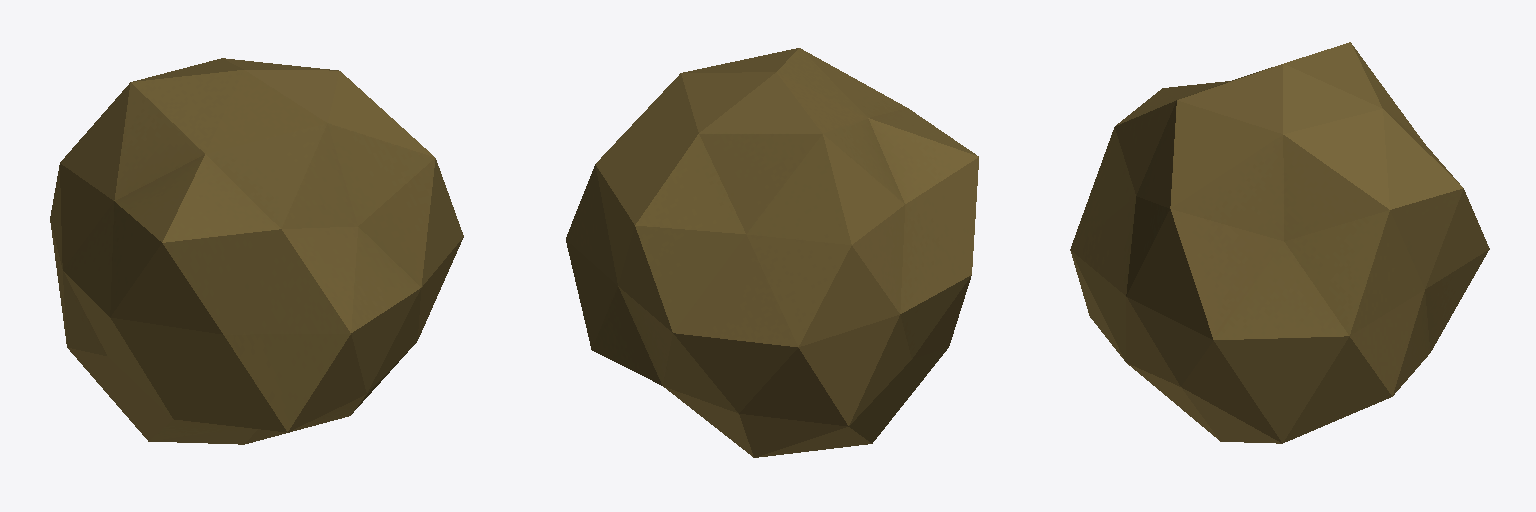
3 renders of one model, left to right at view 1: azimuth 30°, elevation 25°; view 2: azimuth 150°, elevation 25°; view 3: azimuth 270°, elevation 25°, orthographic.
Visible parts, largest first — view 1: Icosphere_Icosphere.003; view 2: Icosphere_Icosphere.003; view 3: Icosphere_Icosphere.003.
Part boxes in pixels (left/top/right/bottom): Icosphere_Icosphere.003: left=50, top=58, right=463, bottom=444; Icosphere_Icosphere.003: left=566, top=48, right=978, bottom=457; Icosphere_Icosphere.003: left=1070, top=42, right=1489, bottom=443.
Size of the model in its own units: 3.55 by 3.64 by 3.69.
1 materials, 1 textured.